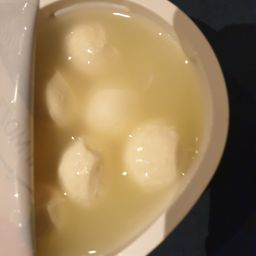Mini Mozzarella Cheese: (115, 115, 196, 195), (47, 132, 111, 219), (57, 22, 121, 76), (41, 67, 90, 128), (83, 81, 138, 135), (34, 182, 77, 248)
